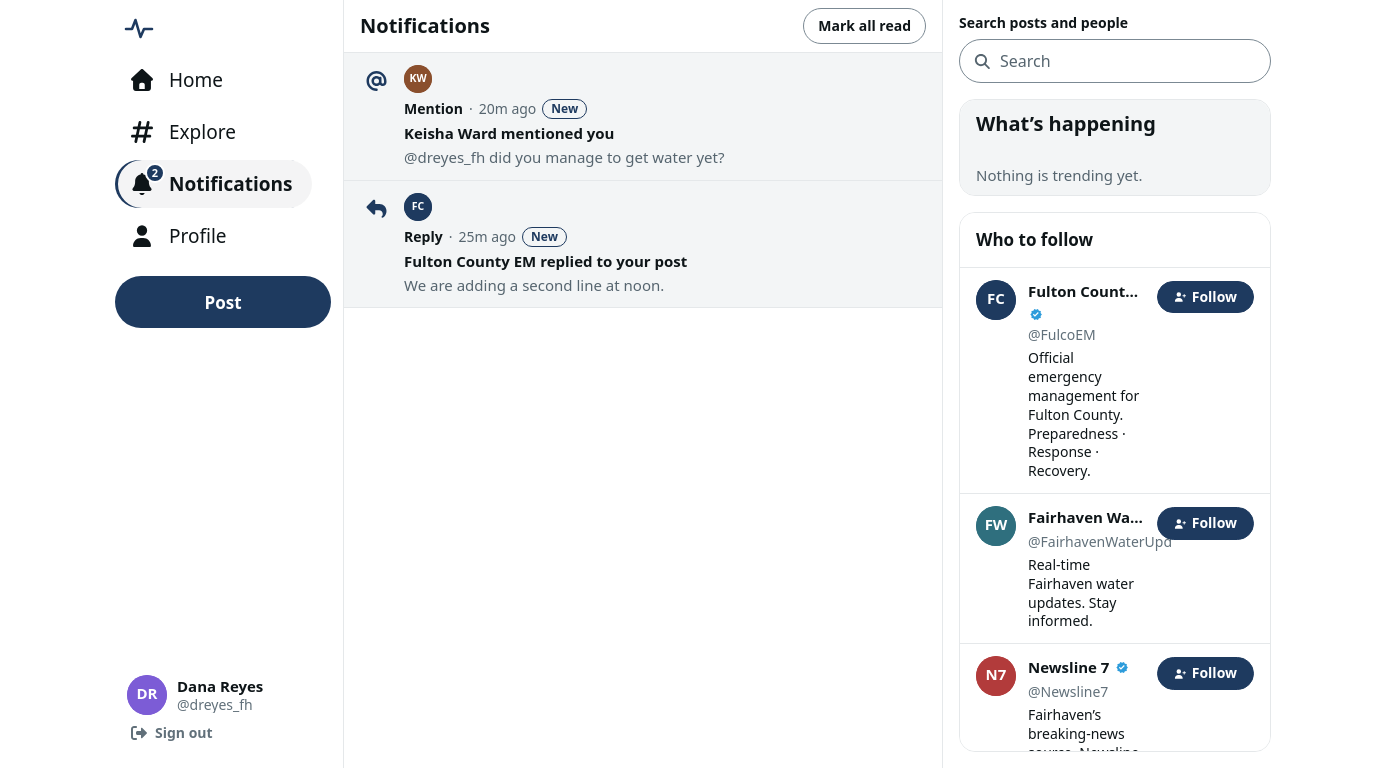
the page › activating a row opens the thread it is about (and Back returns)
The width and height of the screenshot is (1378, 768).
Click the link that starts with "Reply".
click(423, 236)  # box [344,180,942,307]
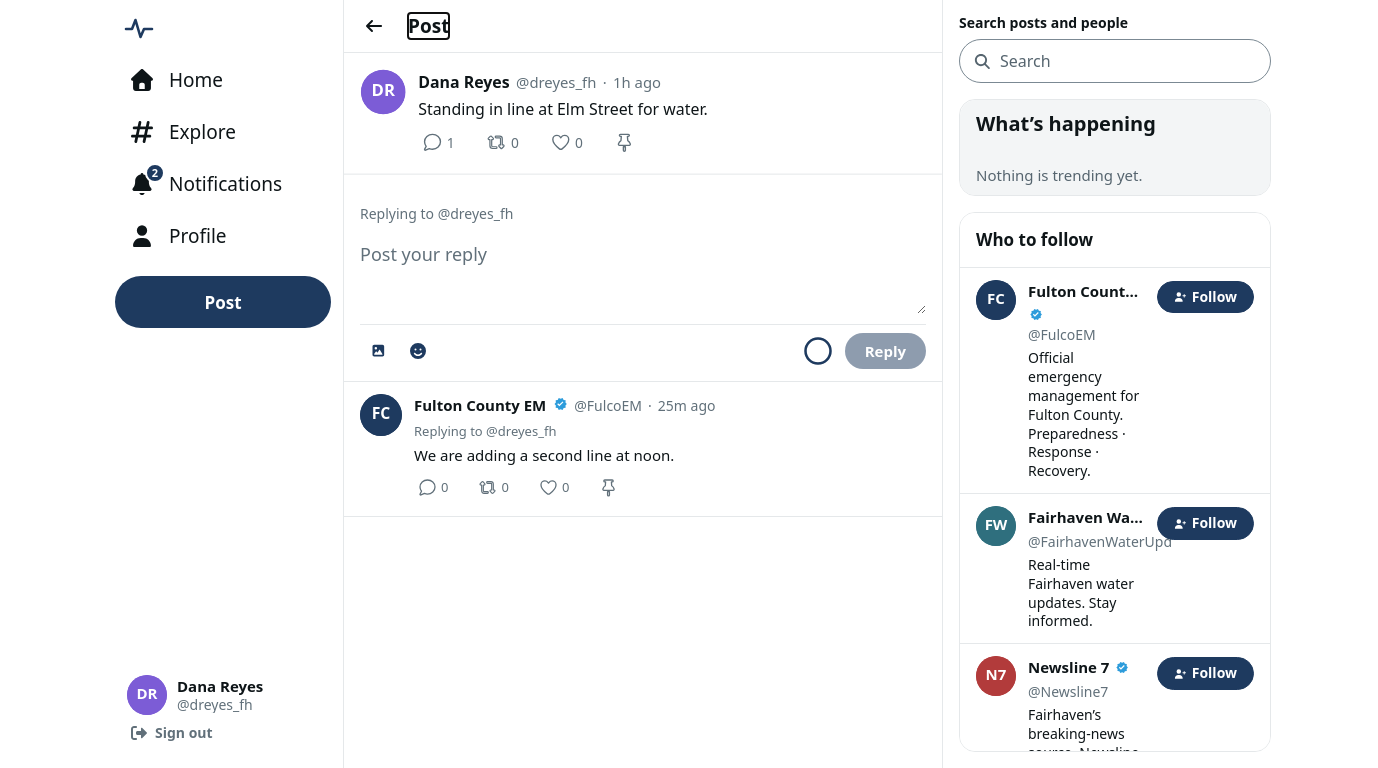
Now the element with test id "thread-view" is shown, box [344,53,942,517]
Click the button named "Back".
click(374, 26)  # box [356,8,392,44]
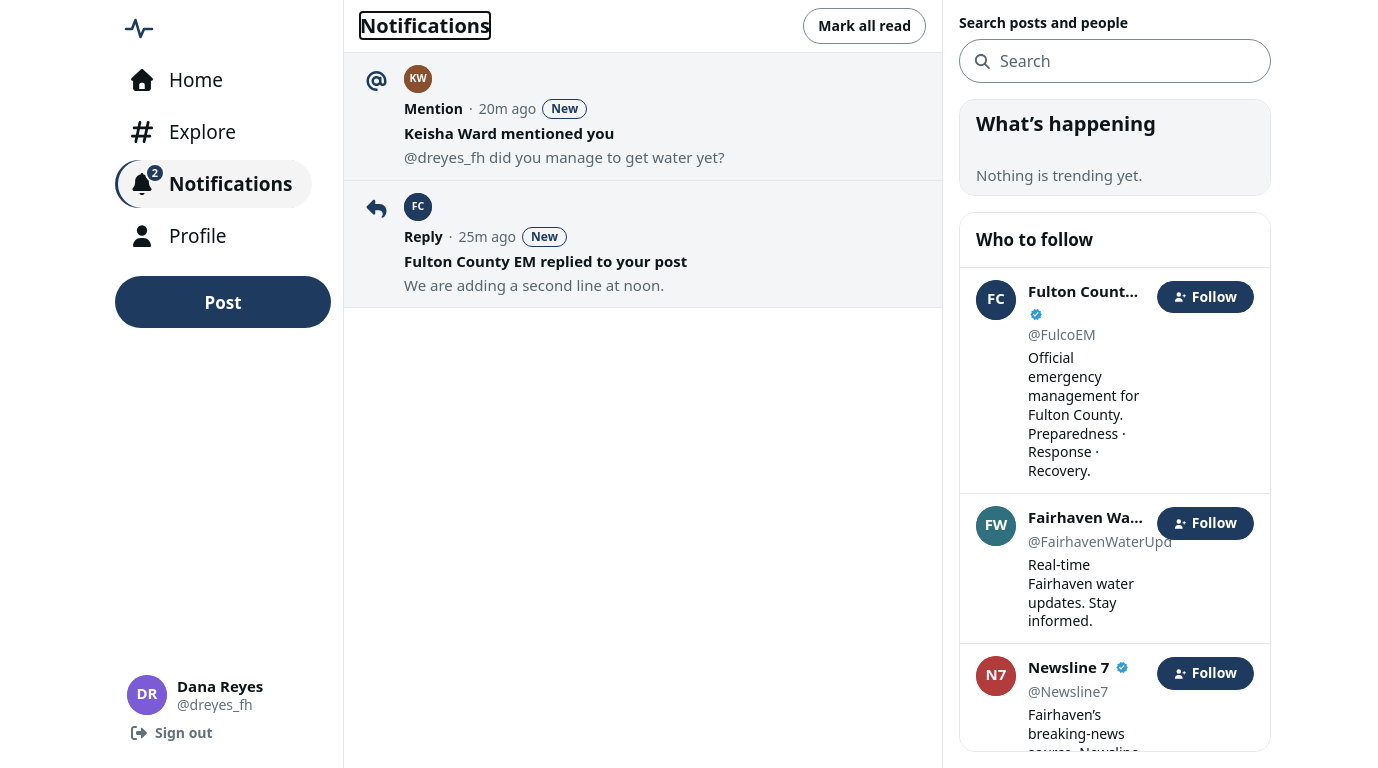
Now the element with test id "notifications-page" is shown, box [344,0,942,308]
// A mention opens the mentioning post's own thread.
Click the link that starts with "Mention".
click(433, 109)  # box [344,53,942,180]
(page scrolled)
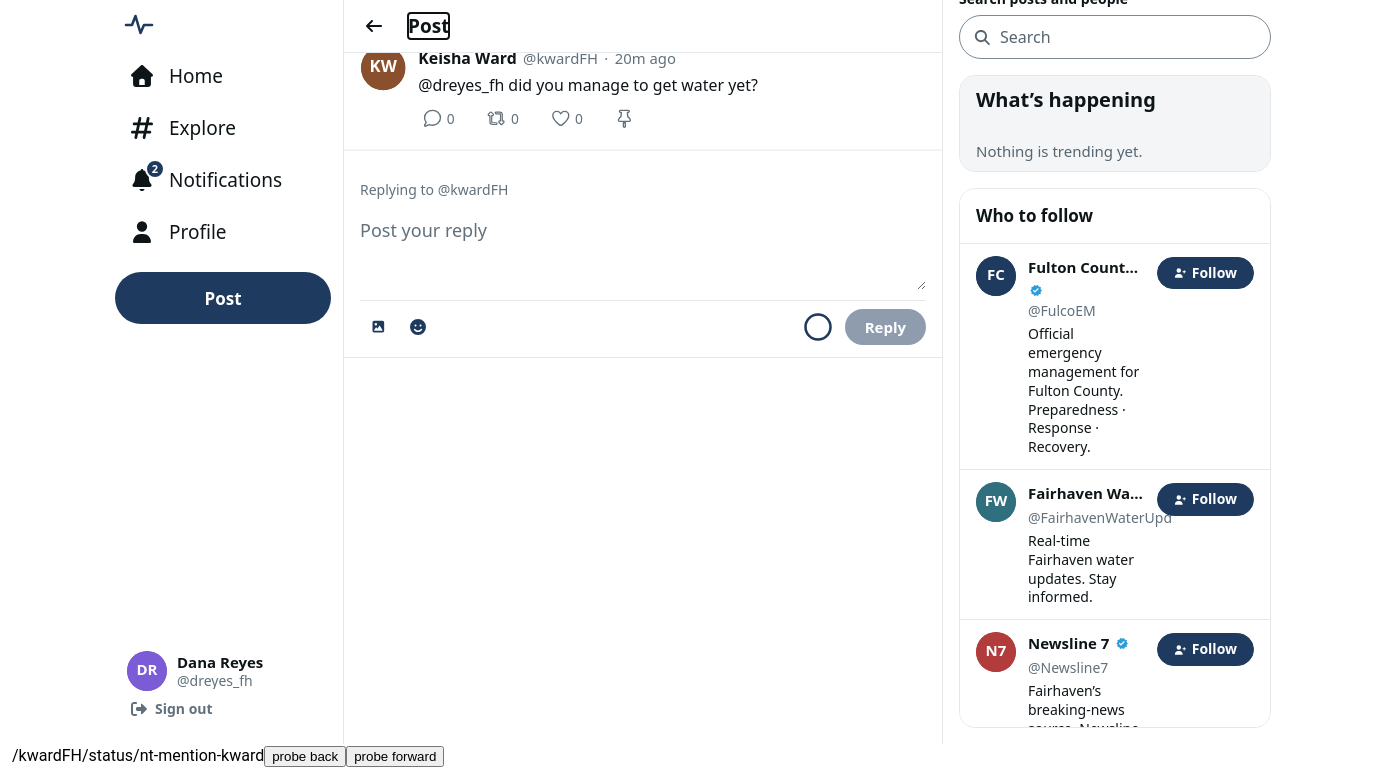
Now the text with test id "router-location" reads "/kwardFH/status/nt-mention-kward", box [12,746,264,765]
